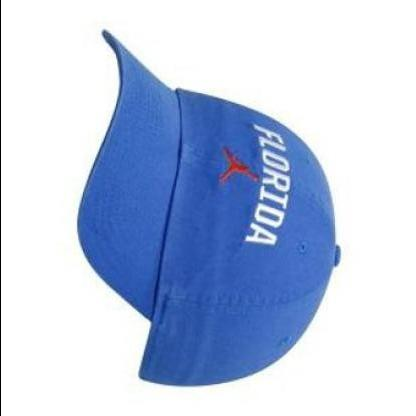cap: (75, 23, 348, 393)
